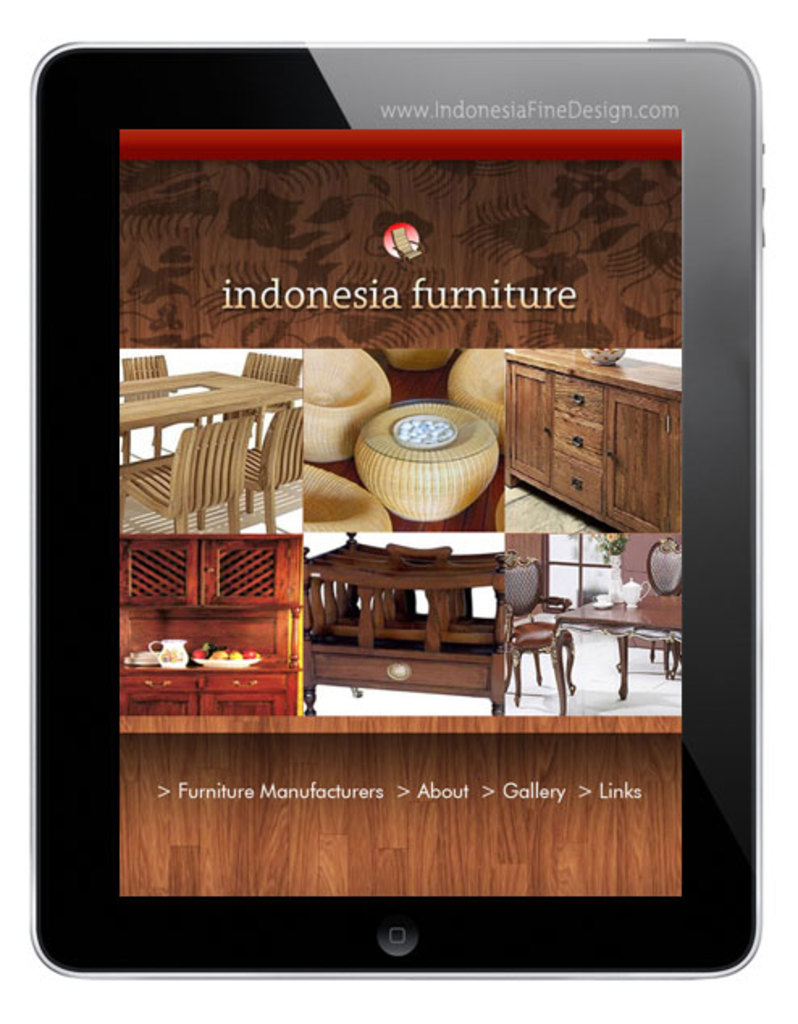Cabinetry: (296, 527, 517, 719), (517, 302, 670, 573), (116, 657, 296, 717), (202, 539, 297, 622), (116, 536, 195, 607)
